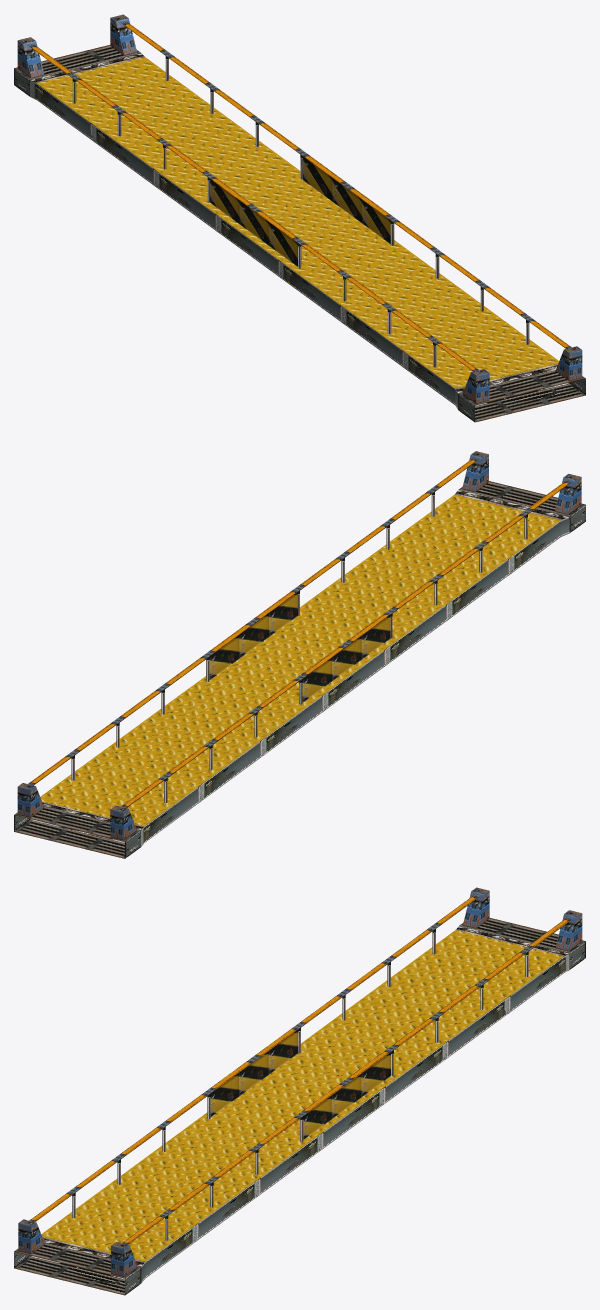
File: PathFlat.obj
3 renders of one model, top to bottom at view 1: azimuth 30°, elevation 25°; view 2: azimuth 150°, elevation 25°; view 3: azimuth 330°, elevation 25°, orthographic.
Size of the model in its own units: 33.46 by 12.95 by 241.
11 materials, 11 textured.
